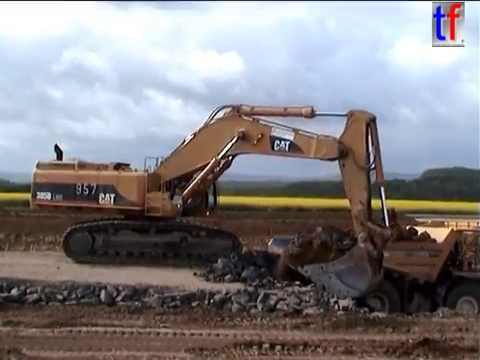excavator: (27, 100, 396, 303), (264, 216, 480, 339)
